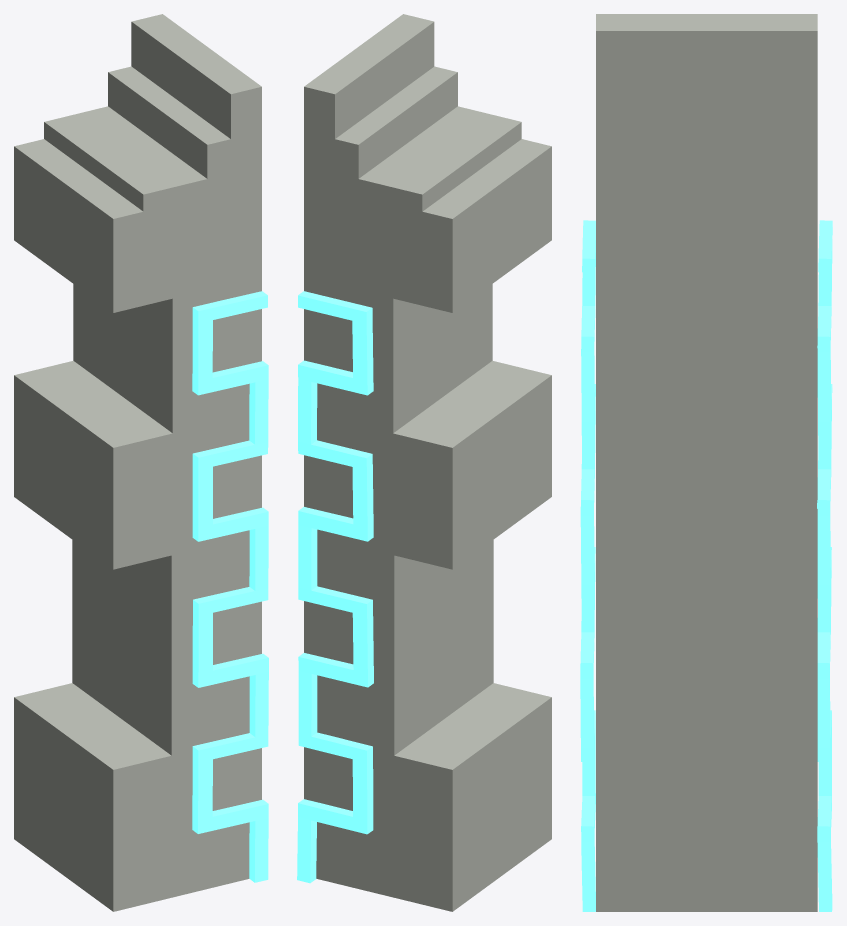
The model's file is Ruine_5.fbx.
3 renders of one model, left to right at view 1: azimuth 30°, elevation 25°; view 2: azimuth 150°, elevation 25°; view 3: azimuth 270°, elevation 25°, orthographic. The views are drawn at different scales.
Visible parts, largest first — view 1: Ruine 5 - 1; view 2: Ruine 5 - 1; view 3: Ruine 5 - 1.
Part boxes in pixels (<box>): Ruine 5 - 1: <box>14,14,268,911</box>; Ruine 5 - 1: <box>297,14,551,911</box>; Ruine 5 - 1: <box>580,14,832,911</box>.
Bounding box in the file's own units: 112 × 564 × 146.
